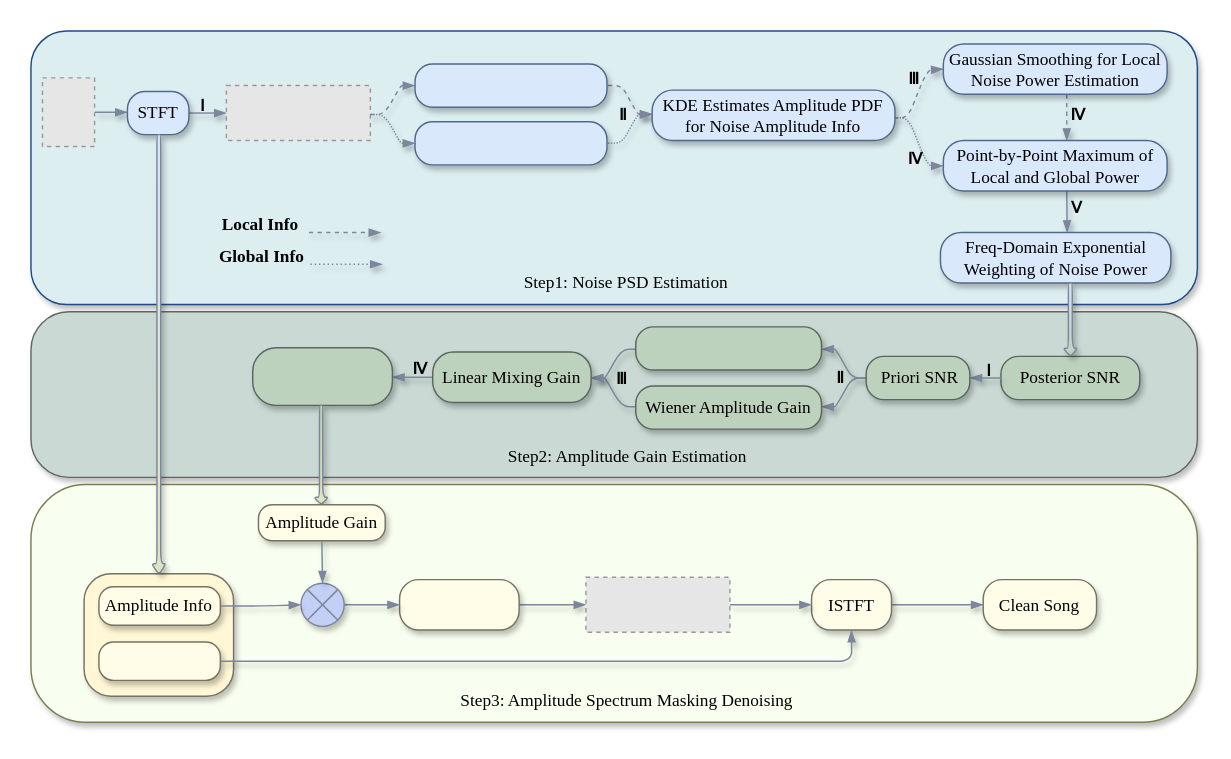
Image size: 1231x759. Some labels were removed from this diagram. Grey dashed boxes stand in for pictures. The centre of each missing label's shape, as x and y in pixels:
Clean Song Amplitude: point 460,606
First-Order IIR Smoothing Gain: point 323,378
Non-Windowing: Global Info: point 512,144
Over-subtraction Gain: point 729,350
Partition Time Windows: Local Info: point 512,87
Phase Info: point 160,662
